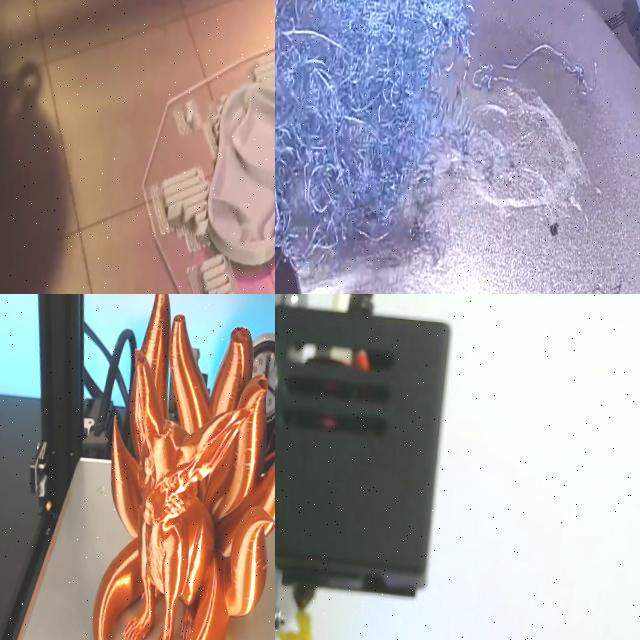spaghetti: (275, 0, 487, 294), (590, 89, 640, 294), (493, 26, 604, 109)
